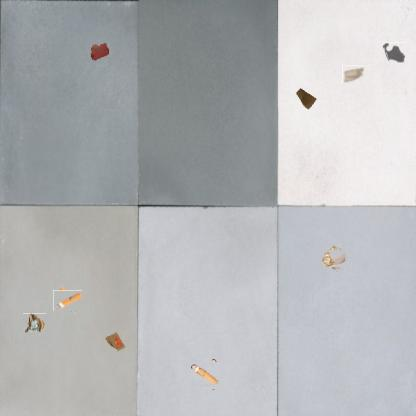dirty: (192, 360, 220, 388), (295, 85, 320, 111), (55, 288, 80, 313), (104, 332, 130, 356), (324, 247, 346, 270), (22, 313, 46, 334), (342, 65, 365, 84)
liquid: (382, 42, 406, 63), (89, 41, 109, 63)
